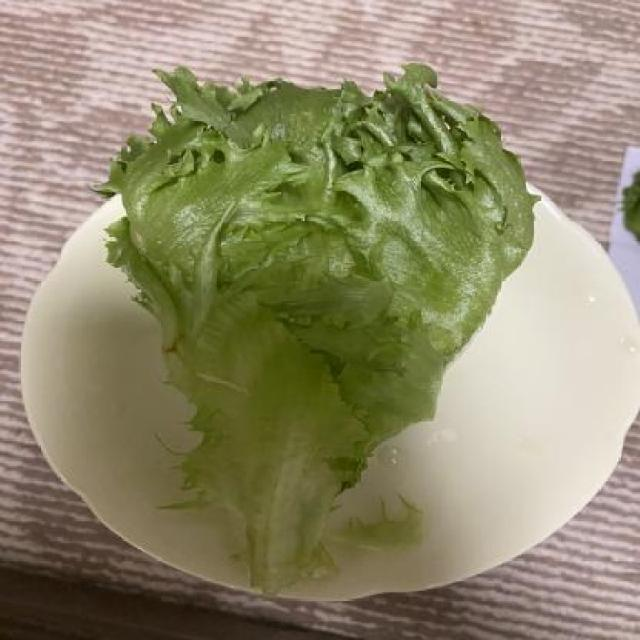Lettuce: (94, 54, 545, 592)
